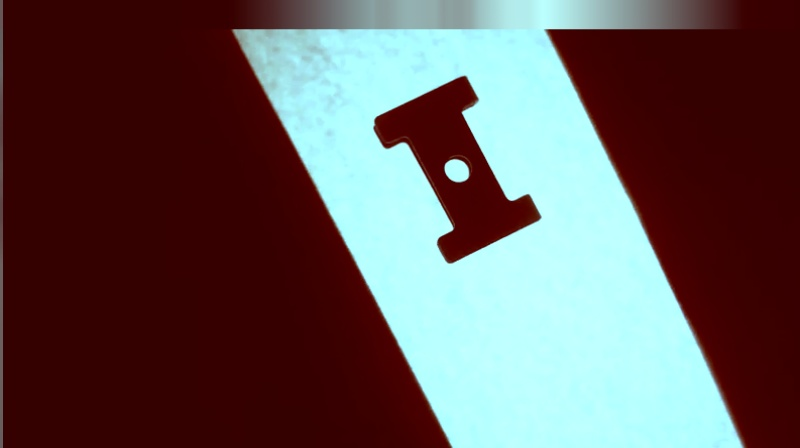O002: (371, 74, 545, 265)
